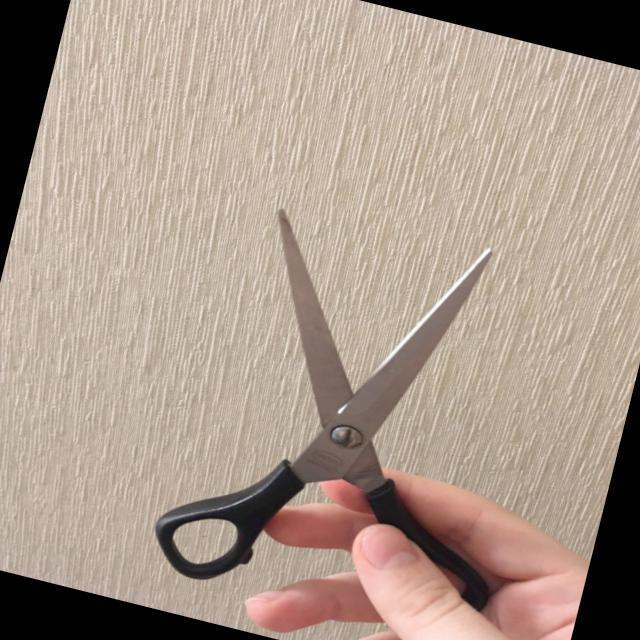scissors: (140, 183, 574, 640)
